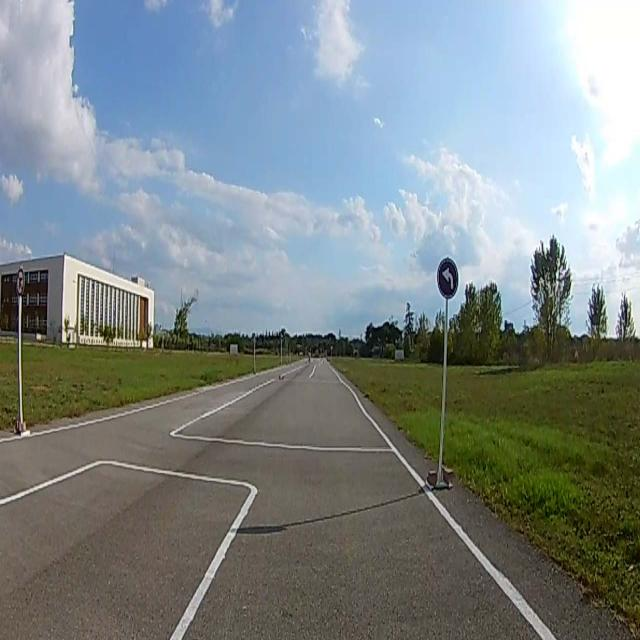sagadonulmez: (16, 270, 25, 295)
sol: (438, 260, 458, 298)
